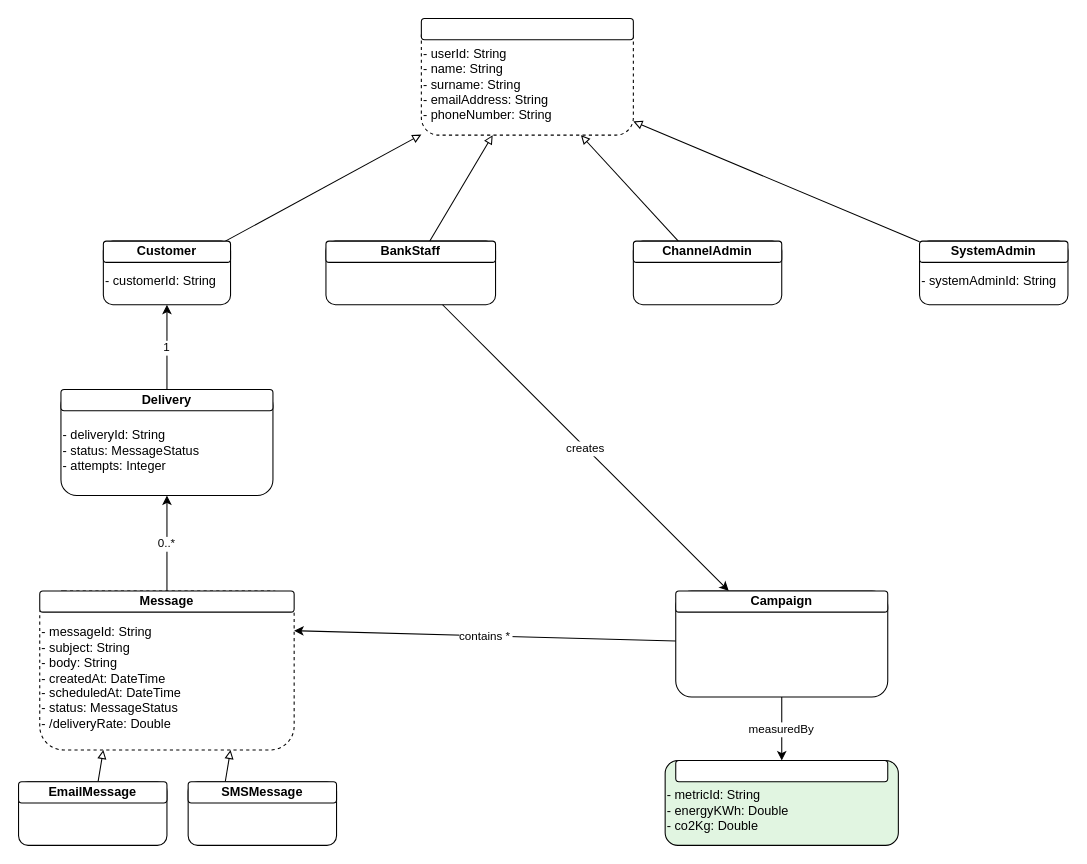
The diagram is 1087 pixels wide and 864 high, and some of its shapes have lost their labels. The shapes that lost their labels are listed below. From the top down, each one's box as (x1, y1, x2, y2) in pixels, then its label:
(420, 17, 633, 40): User
(325, 240, 496, 305): - bankStaffId: String - departmentName: String
(632, 240, 782, 305): - channelAdminId: String
(675, 590, 888, 697): - campaignId: String - name: String - startDate: Date - endDate: Date
(675, 759, 888, 782): SustainabilityMetric
(17, 781, 167, 845): - attachments: String[]
(187, 781, 337, 845): /smsParts: Integer
